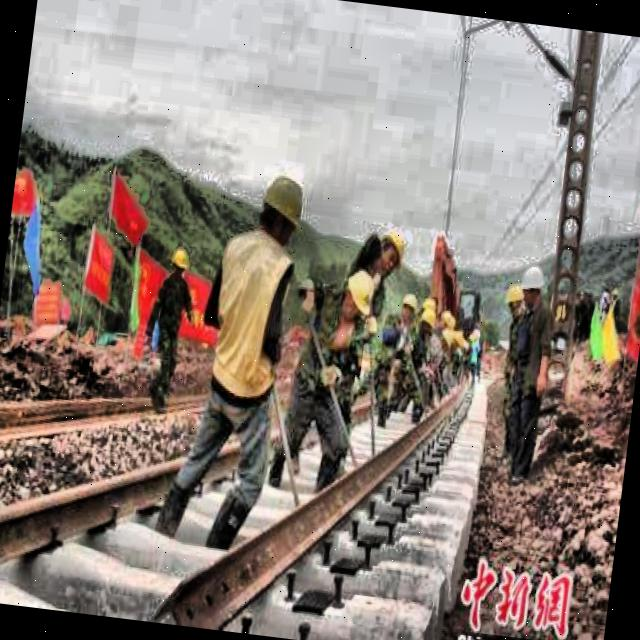helmet: (250, 162, 312, 258), (340, 269, 379, 328), (375, 230, 409, 284), (516, 260, 548, 310), (169, 243, 194, 284), (502, 280, 527, 320), (417, 305, 436, 338), (400, 290, 418, 322)
